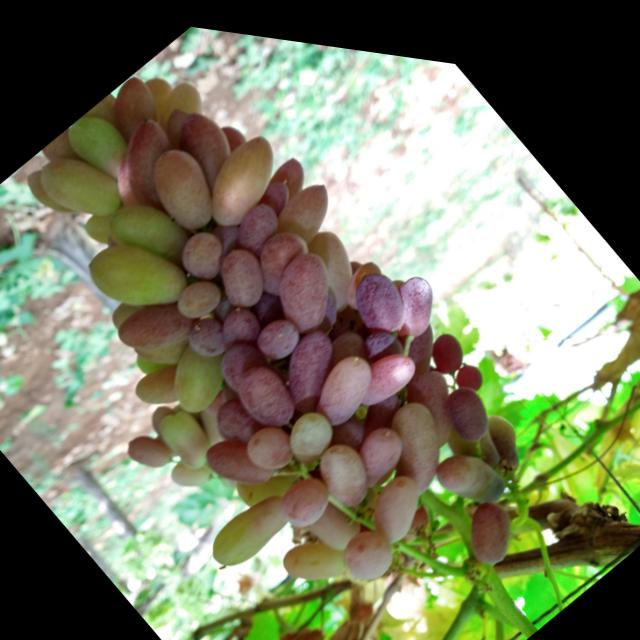grapes: (81, 209, 196, 335), (90, 101, 200, 225), (189, 114, 299, 235), (362, 376, 468, 493), (33, 128, 134, 240), (202, 469, 301, 577), (136, 129, 234, 237), (260, 229, 356, 335), (102, 177, 197, 282), (266, 308, 360, 412), (386, 345, 479, 448), (152, 316, 245, 419), (160, 94, 250, 195), (112, 274, 202, 373), (290, 210, 378, 308), (301, 331, 388, 428), (59, 97, 144, 193), (264, 161, 348, 253), (356, 452, 438, 542), (431, 421, 511, 510), (340, 248, 420, 337), (242, 207, 322, 296), (228, 345, 306, 434), (436, 386, 513, 473), (379, 298, 456, 384), (278, 510, 355, 595), (376, 253, 452, 338), (341, 403, 417, 488), (201, 415, 277, 499), (98, 64, 172, 148), (309, 423, 383, 506), (453, 478, 527, 560), (206, 230, 280, 312), (348, 327, 422, 408), (466, 390, 537, 469), (272, 453, 342, 531), (154, 395, 222, 473), (335, 506, 403, 582), (130, 344, 198, 420), (224, 185, 292, 259), (277, 391, 344, 464), (146, 67, 212, 139), (303, 479, 368, 551), (438, 364, 502, 436), (172, 213, 236, 285), (240, 405, 303, 475), (210, 321, 273, 391), (255, 142, 318, 212), (206, 380, 268, 450), (134, 308, 196, 378), (250, 298, 309, 364), (352, 372, 412, 436), (22, 162, 80, 227), (128, 62, 186, 127), (336, 243, 394, 306), (210, 289, 268, 352), (171, 261, 229, 324), (319, 397, 375, 458), (182, 301, 237, 362), (353, 306, 407, 366), (122, 418, 176, 478), (300, 270, 354, 330), (152, 95, 206, 155), (76, 84, 129, 142), (242, 271, 294, 329), (420, 312, 472, 369), (386, 484, 438, 541), (42, 121, 94, 178), (252, 163, 302, 218), (322, 310, 371, 365), (167, 442, 216, 496), (132, 331, 178, 383), (81, 201, 126, 249), (106, 286, 147, 331), (450, 343, 489, 386), (144, 392, 182, 433), (214, 110, 250, 149), (202, 379, 234, 414), (341, 245, 365, 272)
